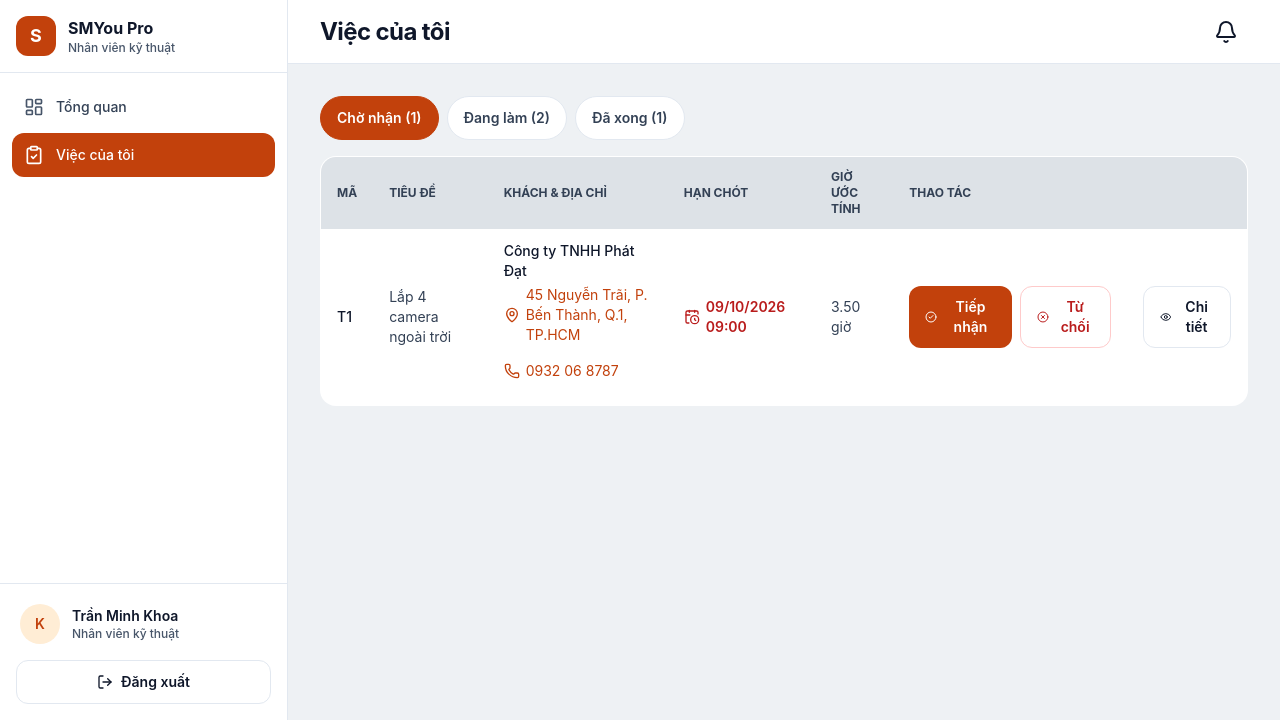
Test: Việc của tôi › AC-ASG-008 3 tab lọc đúng nhóm, đếm đúng số lượng
The image size is (1280, 720).
Expected: the tab "Chờ nhận (1)" is shown, [320,96,439,140]
Expected: the tab "Đã xong (1)" is shown, [575,96,684,140]
Click the tab "Đang làm (2)".
click(507, 118)  # box [447,96,567,140]
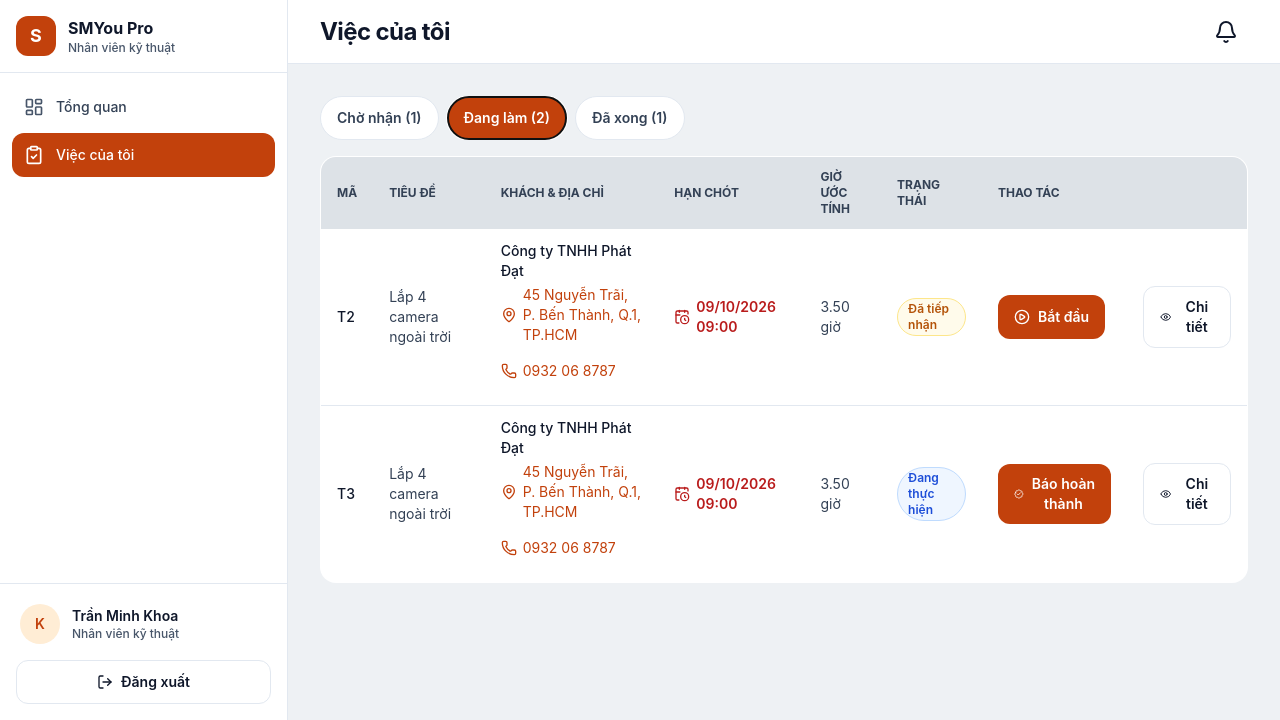
Expected: the text "T2" is shown, [320,229,373,406]
Expected: the text "T3" is shown, [320,406,373,582]
Expected: the text "T1" is gone
